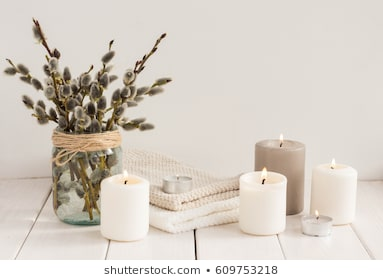Fire: (259, 166, 271, 183), (120, 165, 129, 183), (276, 133, 287, 145), (328, 156, 339, 168)
